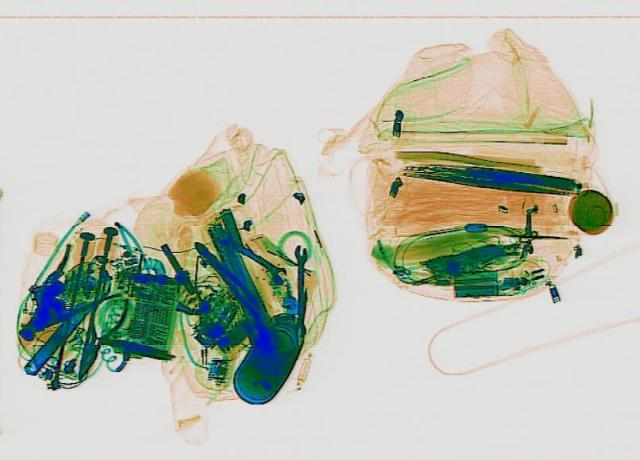Pliers: (57, 289, 133, 380), (187, 236, 265, 312)
Wrench: (206, 227, 292, 283), (292, 243, 306, 335)
